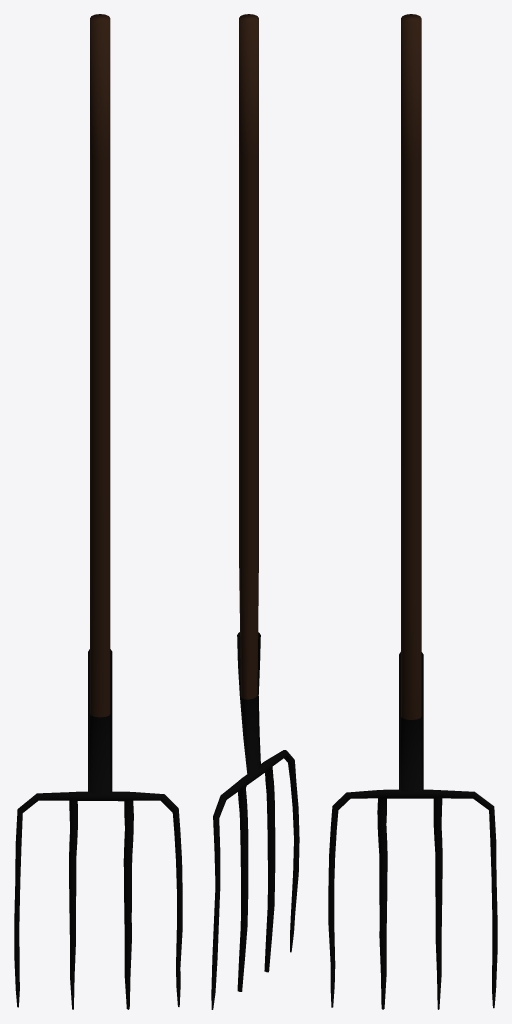
The model's file is pitchfork.fbx.
3 views of the same model, side by side, from view 1: azimuth 90°, elevation 25°; view 2: azimuth 150°, elevation 25°; view 3: azimuth 270°, elevation 25° (orthographic). The views are drawn at different scales.
Visible parts, largest first — view 1: Cylinder.002; view 2: Cylinder.002; view 3: Cylinder.002.
Part boxes in pixels (x1,y1,x2,y2): Cylinder.002: [14, 14, 182, 1009]; Cylinder.002: [211, 14, 299, 1009]; Cylinder.002: [328, 14, 497, 1009].
Size of the model in its own units: 2.79 by 113 by 17.39.
